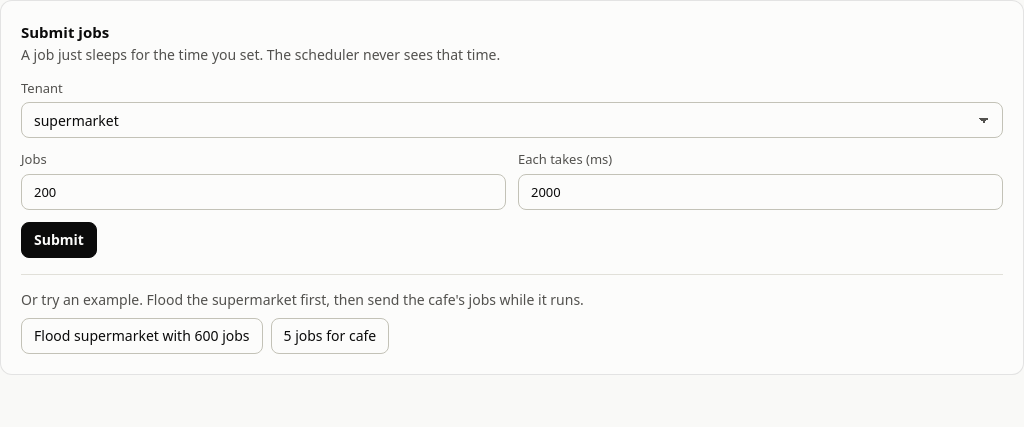
the form that submits jobs › an example is sent with one press
Click the button "5 jobs for cafe": (330, 336) [270,318,389,354]
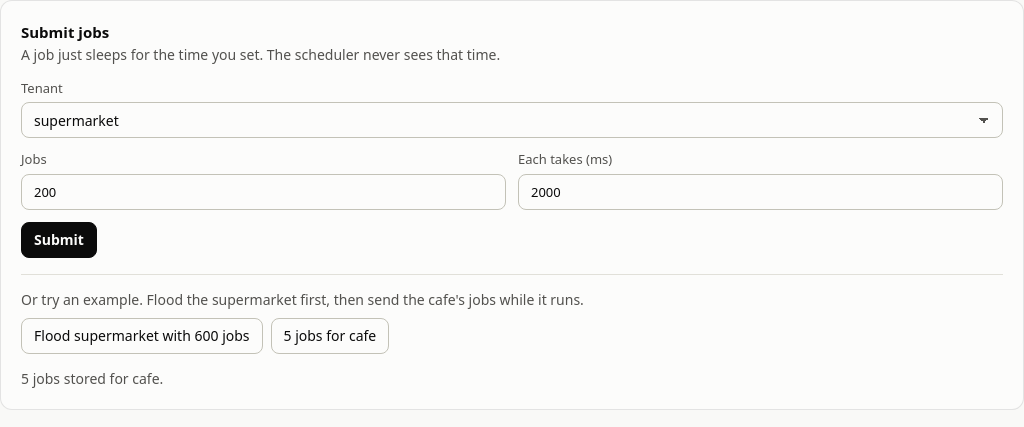
Check: the text "5 jobs stored for cafe." is shown, box [21,368,163,388]
